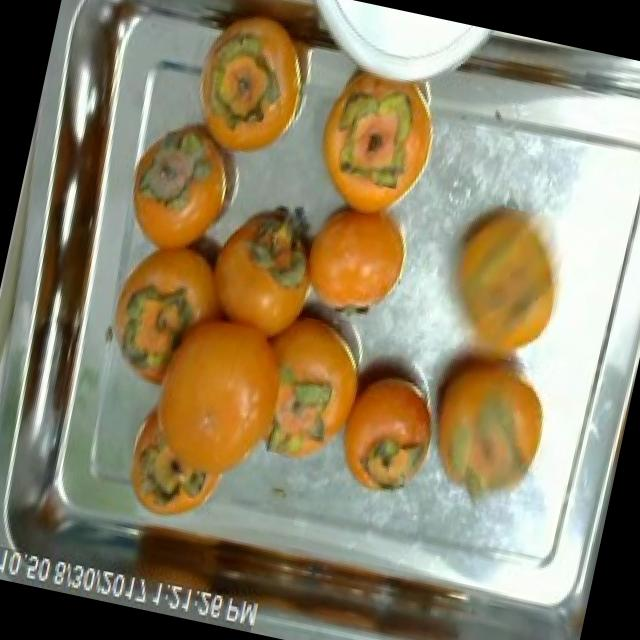Fruit: (107, 343, 286, 546), (408, 316, 572, 528), (419, 182, 589, 382), (166, 0, 336, 183), (110, 92, 274, 280), (292, 45, 458, 228), (276, 168, 426, 346), (320, 342, 452, 514)
